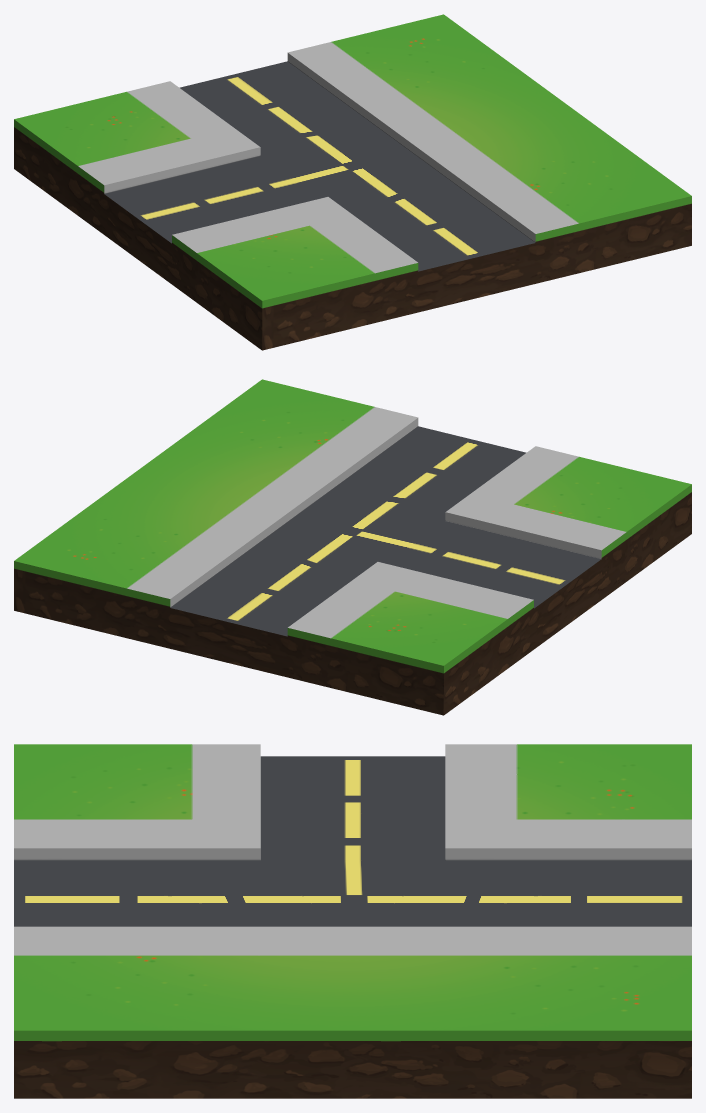
File: city_road_04.fbx
The picture shows the model from 3 angles, top to bottom: view 1: azimuth 30°, elevation 25°; view 2: azimuth 150°, elevation 25°; view 3: azimuth 270°, elevation 25°; orthographic projection. The views are drawn at different scales.
Parts seen in each view (by area): view 1: road_04; view 2: road_04; view 3: road_04.
Boxes of the visible parts, box(x1,y1,x2,y2) form: road_04: box(14, 14, 691, 350); road_04: box(14, 379, 691, 715); road_04: box(14, 744, 691, 1098).
Size of the model in its own units: 22 by 2.43 by 22.
